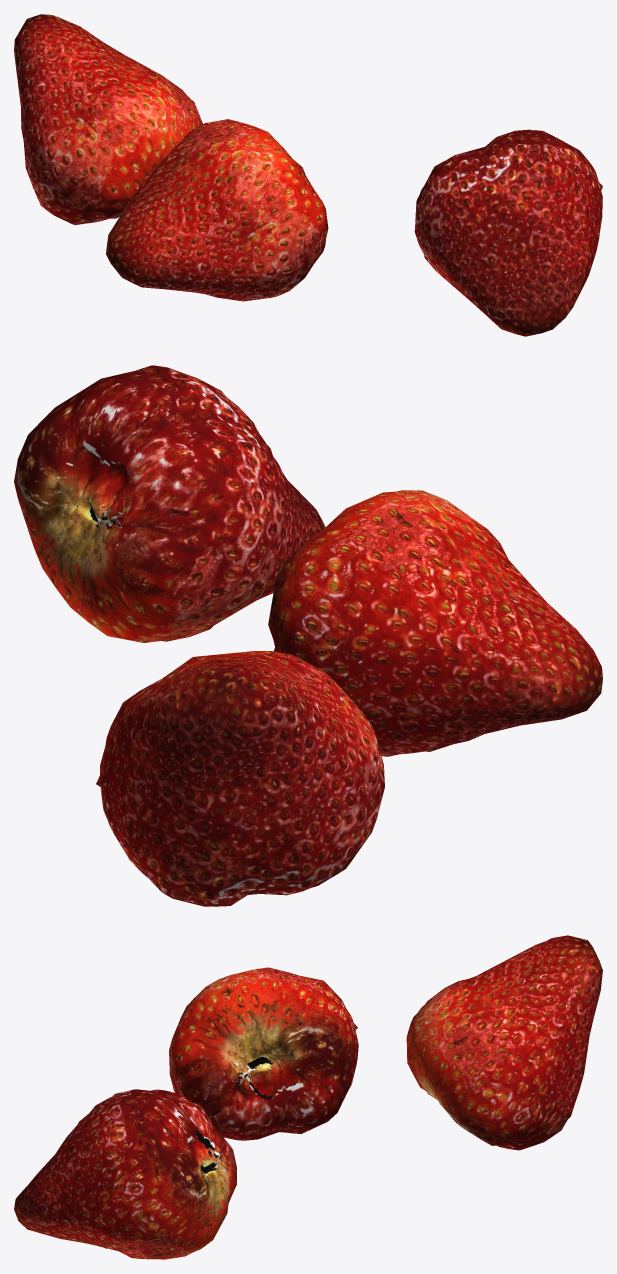
File: Strawberry.fbx
The picture shows the model from 3 angles, top to bottom: view 1: azimuth 30°, elevation 25°; view 2: azimuth 150°, elevation 25°; view 3: azimuth 270°, elevation 25°; orthographic projection. The views are drawn at different scales.
Parts seen in each view (by area): view 1: 73_strawberry_73_strawberry_0, 73_strawberry_73_strawberry_0.002, 73_strawberry_73_strawberry_0.001; view 2: 73_strawberry_73_strawberry_0.002, 73_strawberry_73_strawberry_0, 73_strawberry_73_strawberry_0.001; view 3: 73_strawberry_73_strawberry_0.001, 73_strawberry_73_strawberry_0.002, 73_strawberry_73_strawberry_0.
Boxes of the visible parts, left/top/right/bottom form: 73_strawberry_73_strawberry_0: left=106, top=119, right=328, bottom=301; 73_strawberry_73_strawberry_0.002: left=414, top=129, right=602, bottom=336; 73_strawberry_73_strawberry_0.001: left=14, top=14, right=202, bottom=225; 73_strawberry_73_strawberry_0.002: left=14, top=365, right=325, bottom=642; 73_strawberry_73_strawberry_0: left=268, top=490, right=602, bottom=756; 73_strawberry_73_strawberry_0.001: left=96, top=651, right=384, bottom=906; 73_strawberry_73_strawberry_0.001: left=406, top=935, right=602, bottom=1150; 73_strawberry_73_strawberry_0.002: left=14, top=1089, right=236, bottom=1259; 73_strawberry_73_strawberry_0: left=169, top=967, right=358, bottom=1140.
Bounding box in the file's own units: 48.65 × 20.03 × 57.26.
1 material, 1 textured.
